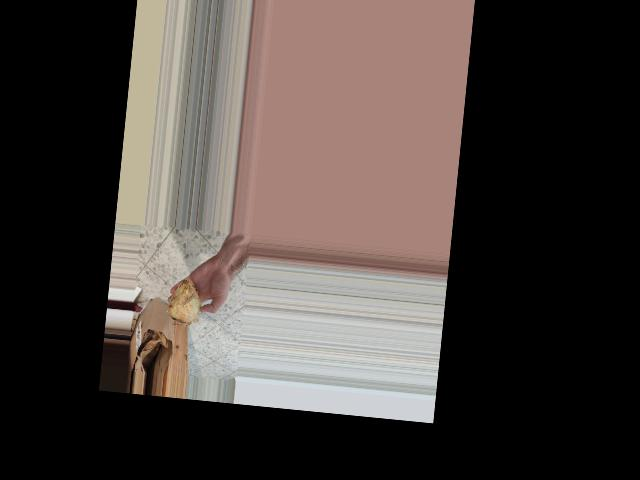onion: (166, 276, 206, 326)
